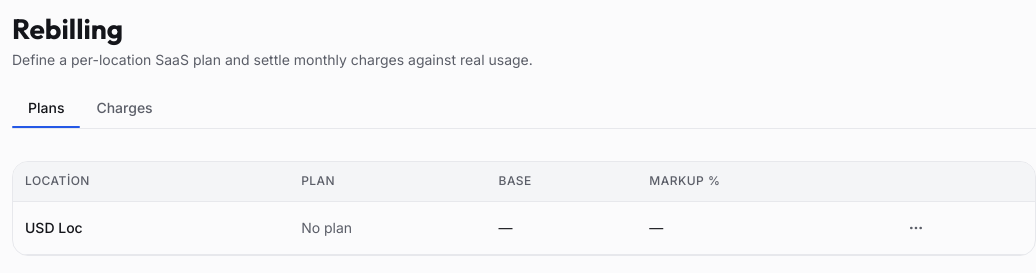
Test: Agency RebillingPage › renders a charge total in the location currency, not a hardcoded ₺
The width and height of the screenshot is (1036, 273).
Check: the heading "Rebilling" is shown, box [12,11,123,46]
Click the tab "Charges" at (124, 109), box [80,90,169,128]
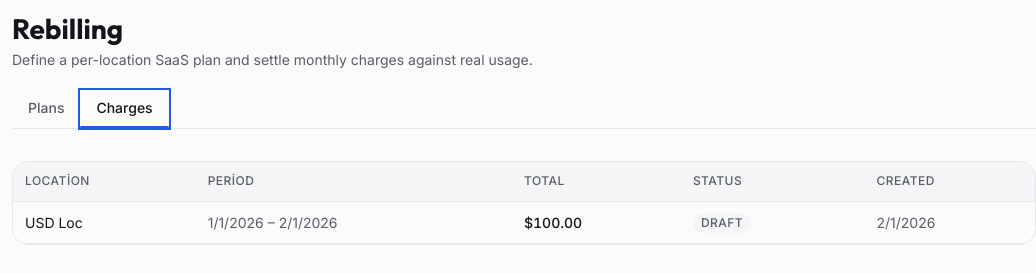
Check: the text "$100.00" is shown, box [524,214,582,231]
